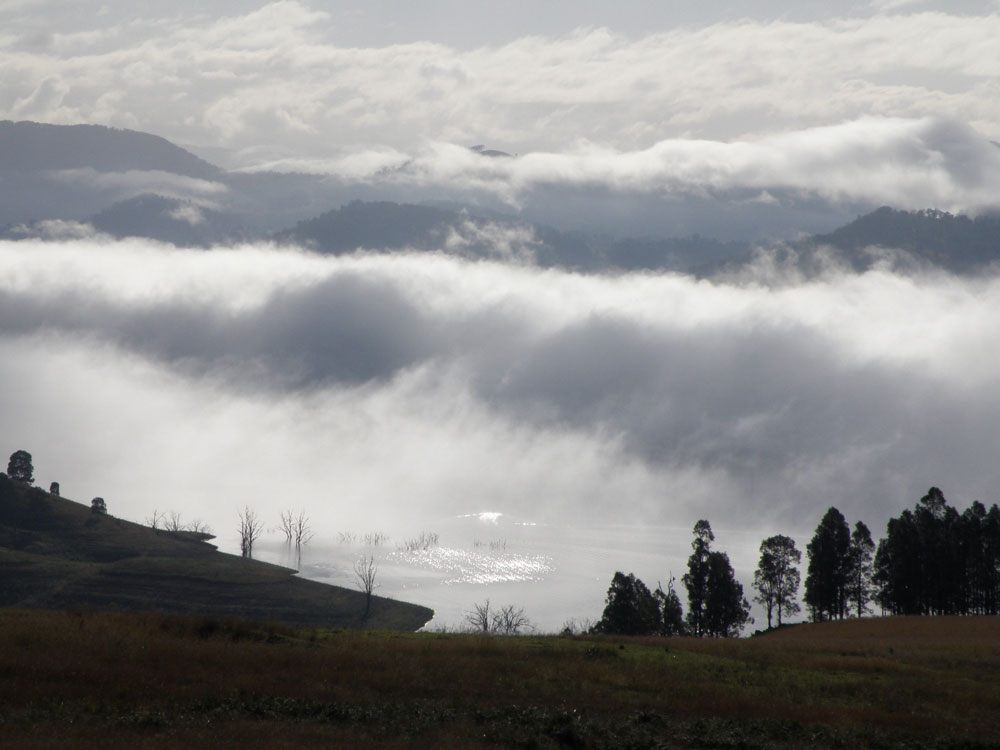Stratus: (5, 231, 1000, 502), (9, 8, 1000, 137), (285, 105, 1000, 212)
